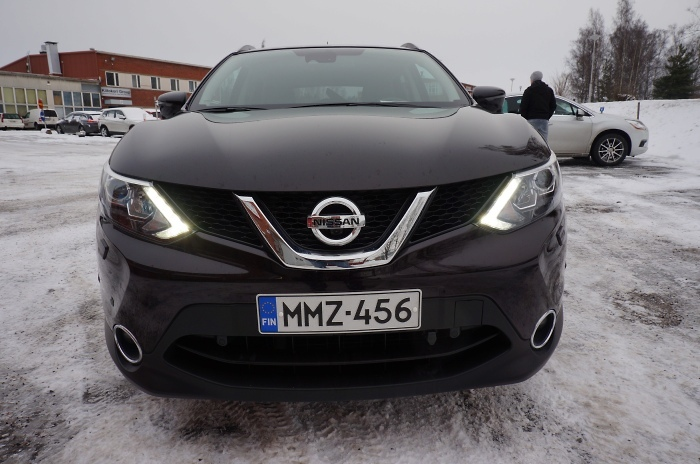license: (256, 290, 419, 338)
